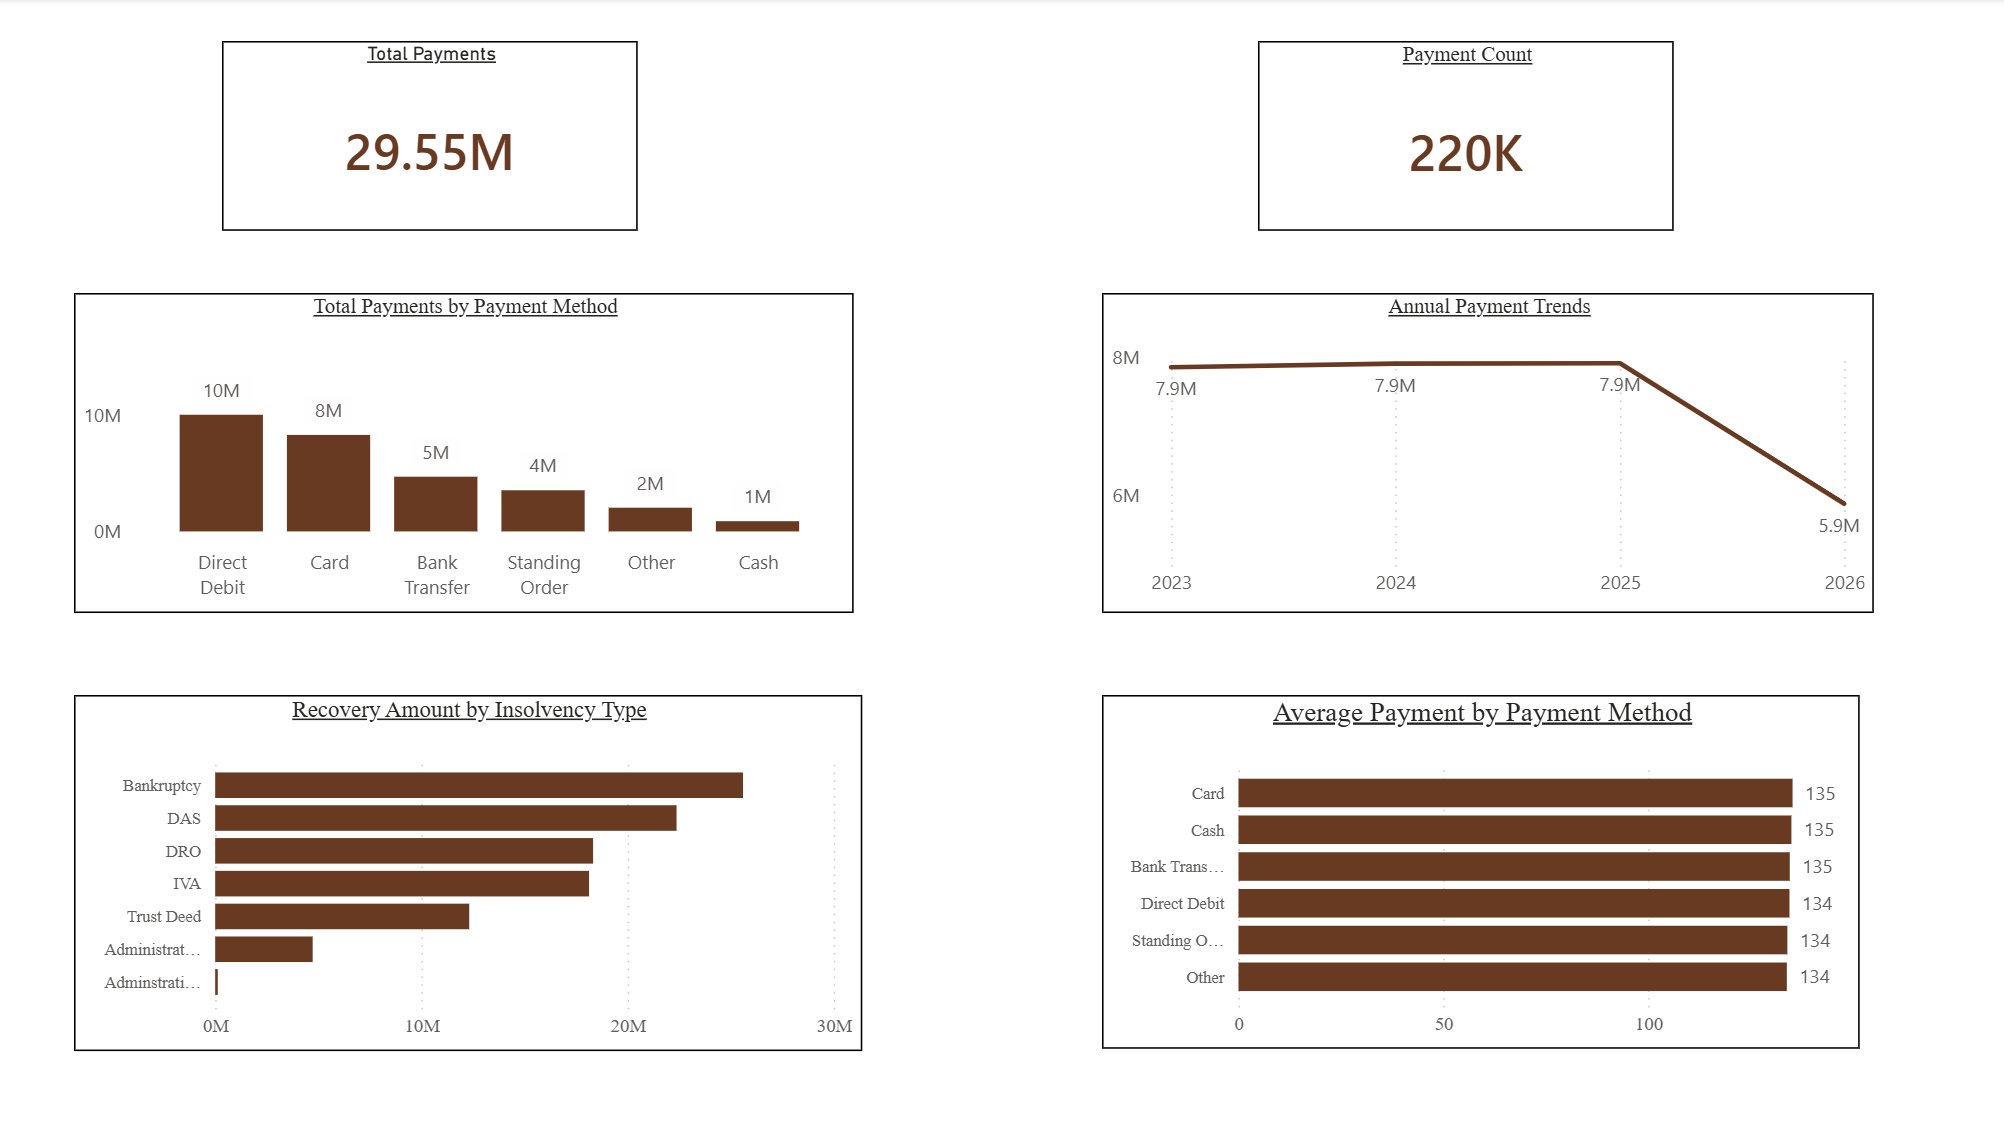

The dashboard page shown, as its layout file describes it:
{"tool":"powerbi","page":{"name":"Payments & Recovery Analysis","canvas":[1280,720],"ordinal":2},"visuals":[{"type":"cardVisual","title":"Total Payments","fields":{"Data":["Measure.Total Payments"]},"box":[143,28.3,265.2,121.1],"z":0},{"type":"cardVisual","title":"Payment Count","fields":{"Data":["Measure.Payment Count"]},"box":[802.8,28.3,265.2,121.1],"z":1},{"type":"lineChart","title":"Annual Payment Trends","fields":{"Category":["Date.Date.Variation.Date Hierarchy.Year"],"Y":["Measure.Total Payments"]},"box":[703.7,188.7,492.1,204],"z":3},{"type":"clusteredBarChart","title":"Recovery Amount by Insolvency Type","fields":{"Category":["Insolvency.Insolvency_Type"],"Y":["Measure.Total Resolution Amount"]},"box":[48.4,444.9,502.3,226.9],"z":4},{"type":"clusteredBarChart","title":"Average Payment by Payment Method","fields":{"Category":["Payments.Payment_Method"],"Y":["Measure.Avg Payment Amount"]},"box":[703.7,444.9,483.2,225.7],"z":5},{"type":"lineClusteredColumnComboChart","title":"Total Payments by Payment Method","fields":{"Category":["Payments.Payment_Method"],"Y":["Measure.Total Payments"]},"box":[48.4,188.7,497.2,204],"z":6}]}

Visuals, with their boxes in screenshot pixels (x1, y1, x2, y2), scaled from the page's 1280x720 canvas onto the 2004x1126 screenshot:
"Total Payments" cardVisual: bbox=[224, 44, 639, 234]
"Payment Count" cardVisual: bbox=[1257, 44, 1672, 234]
"Annual Payment Trends" lineChart: bbox=[1102, 295, 1872, 614]
"Recovery Amount by Insolvency Type" clusteredBarChart: bbox=[76, 696, 862, 1051]
"Average Payment by Payment Method" clusteredBarChart: bbox=[1102, 696, 1858, 1049]
"Total Payments by Payment Method" lineClusteredColumnComboChart: bbox=[76, 295, 854, 614]
